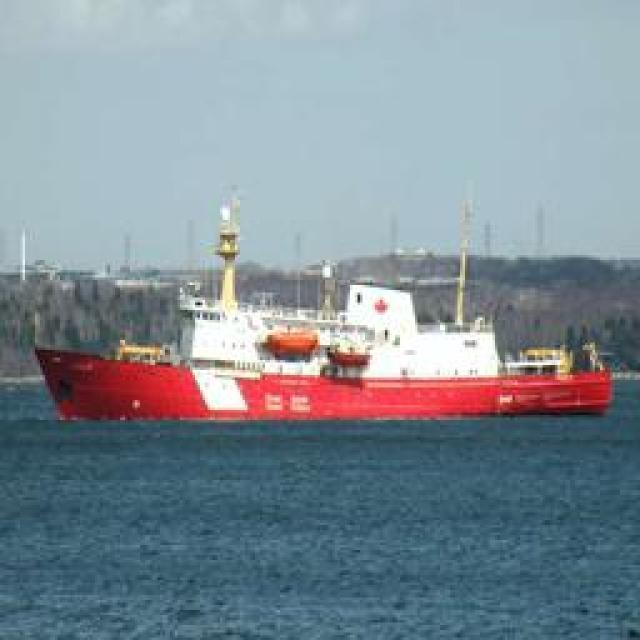ship2: (34, 178, 612, 421)
